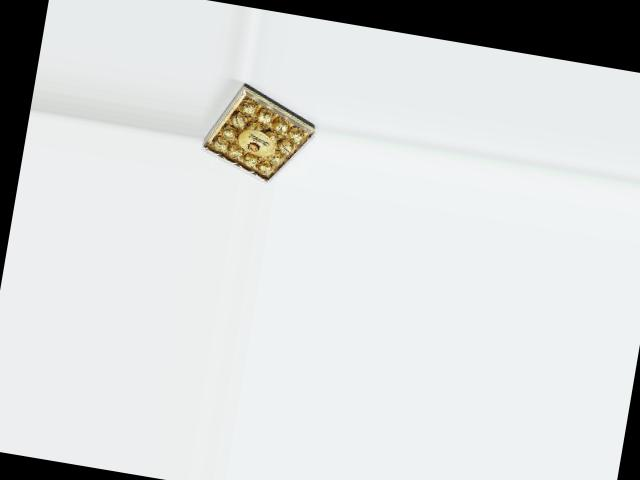chocolate: (196, 75, 323, 190)
